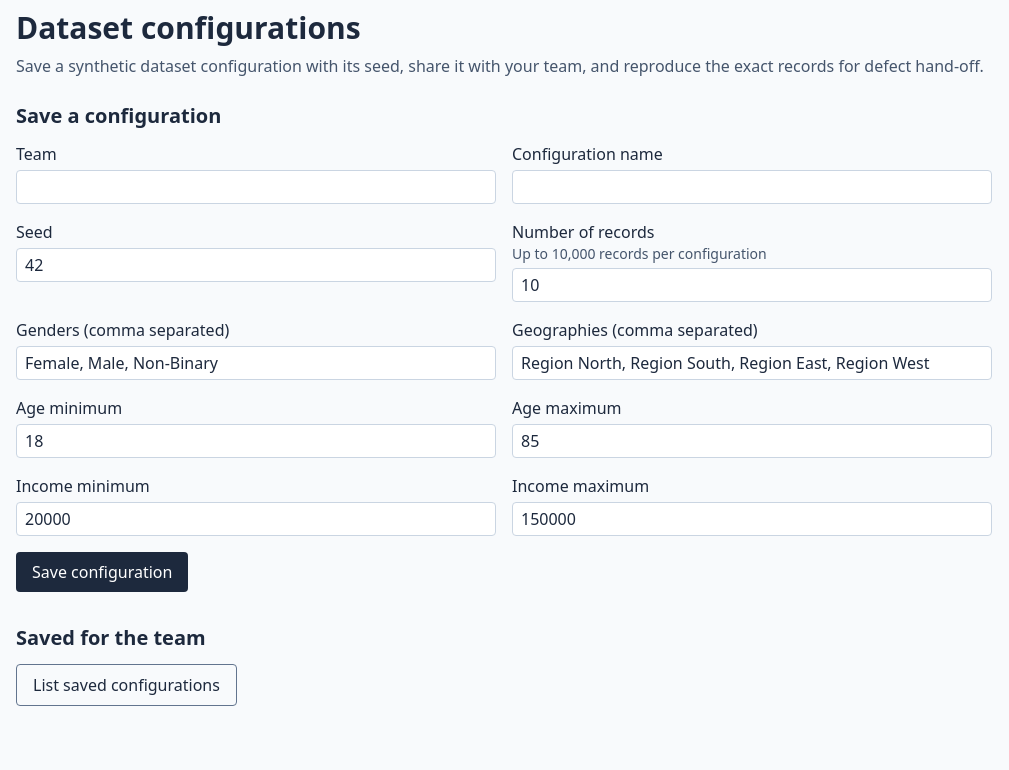
Test: DatasetConfigurationsPage › does not save silently: the refusal is announced
Type "atlas" into the field labelled "Team" at [256, 187], box [16,170,496,204]
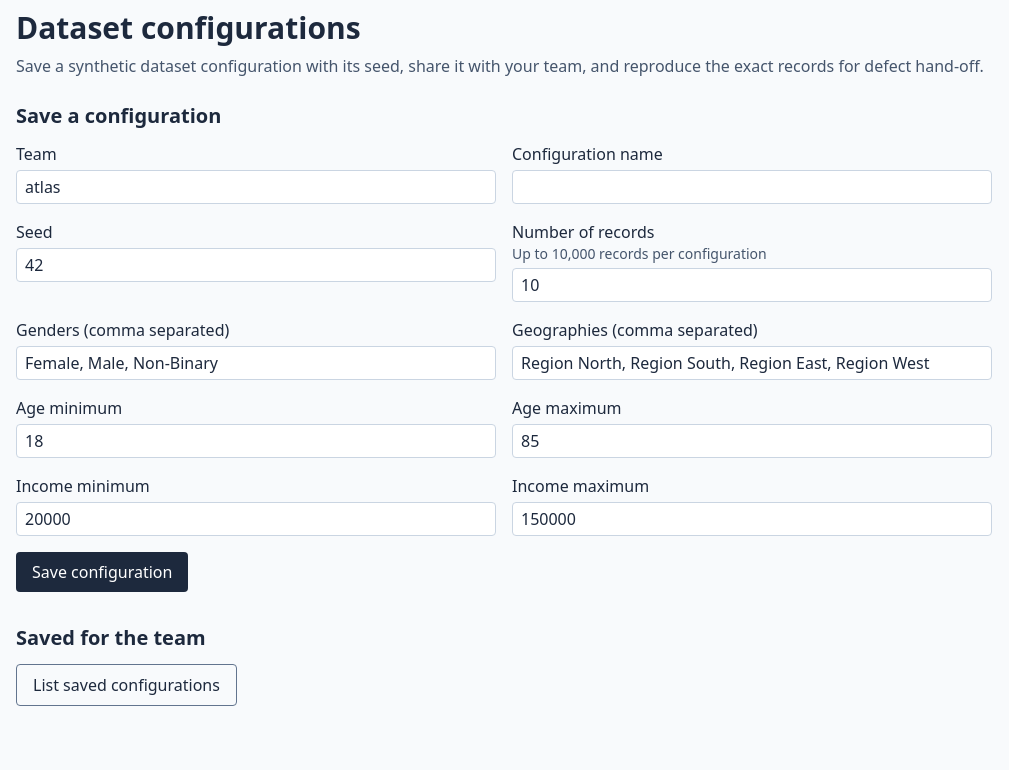
Type "atlas-baseline" into the field labelled "Configuration name" at [752, 187], box [512,170,992,204]
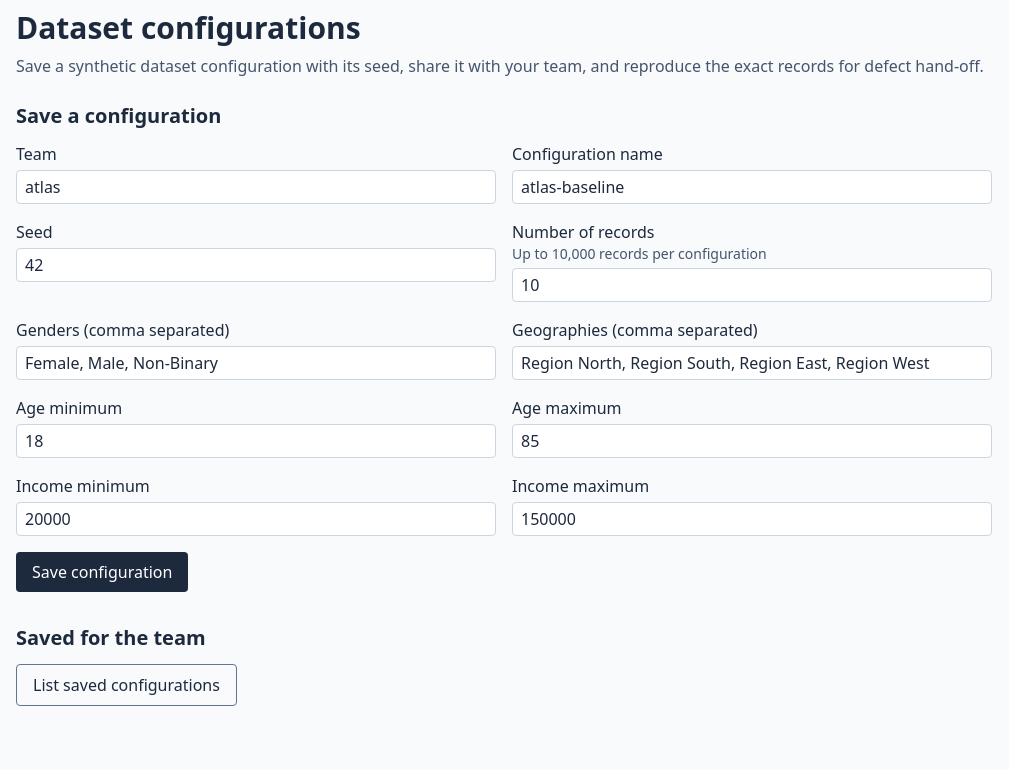
Click the button "Save configuration" at [102, 572], box [16,552,188,592]
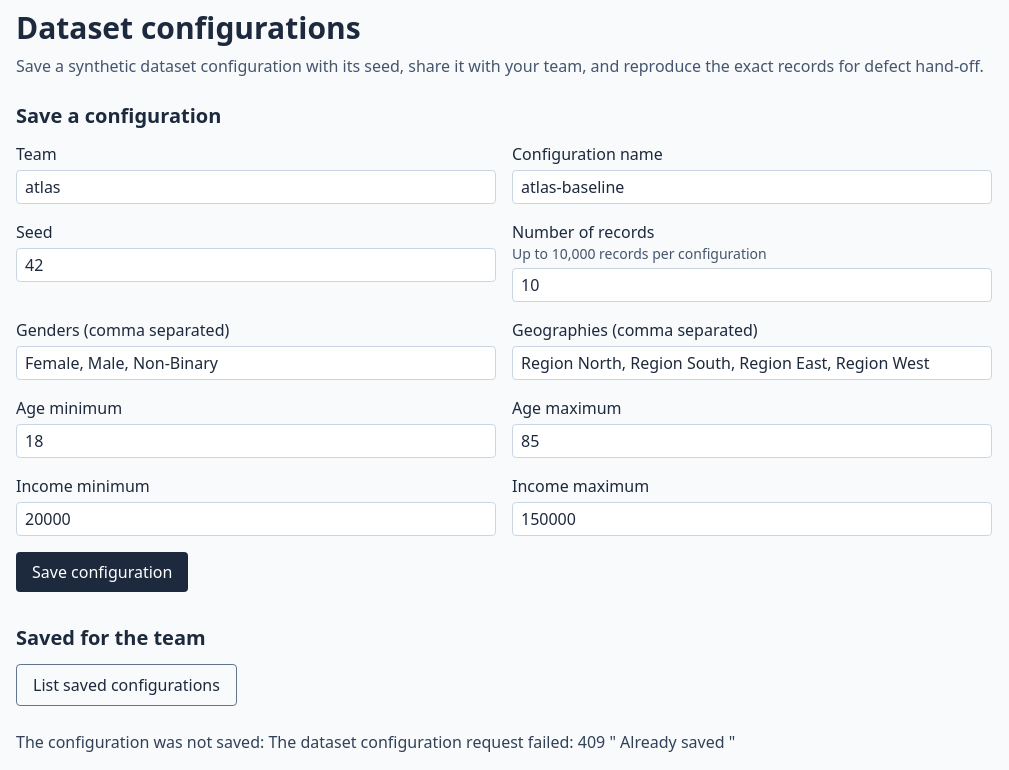
Result: the text "The configuration was not saved: " is shown at [16,731,735,753]
